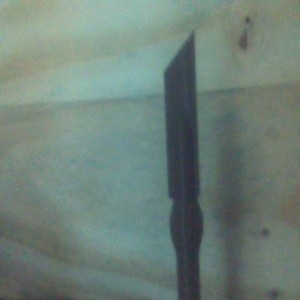cutter: (162, 29, 205, 300)
